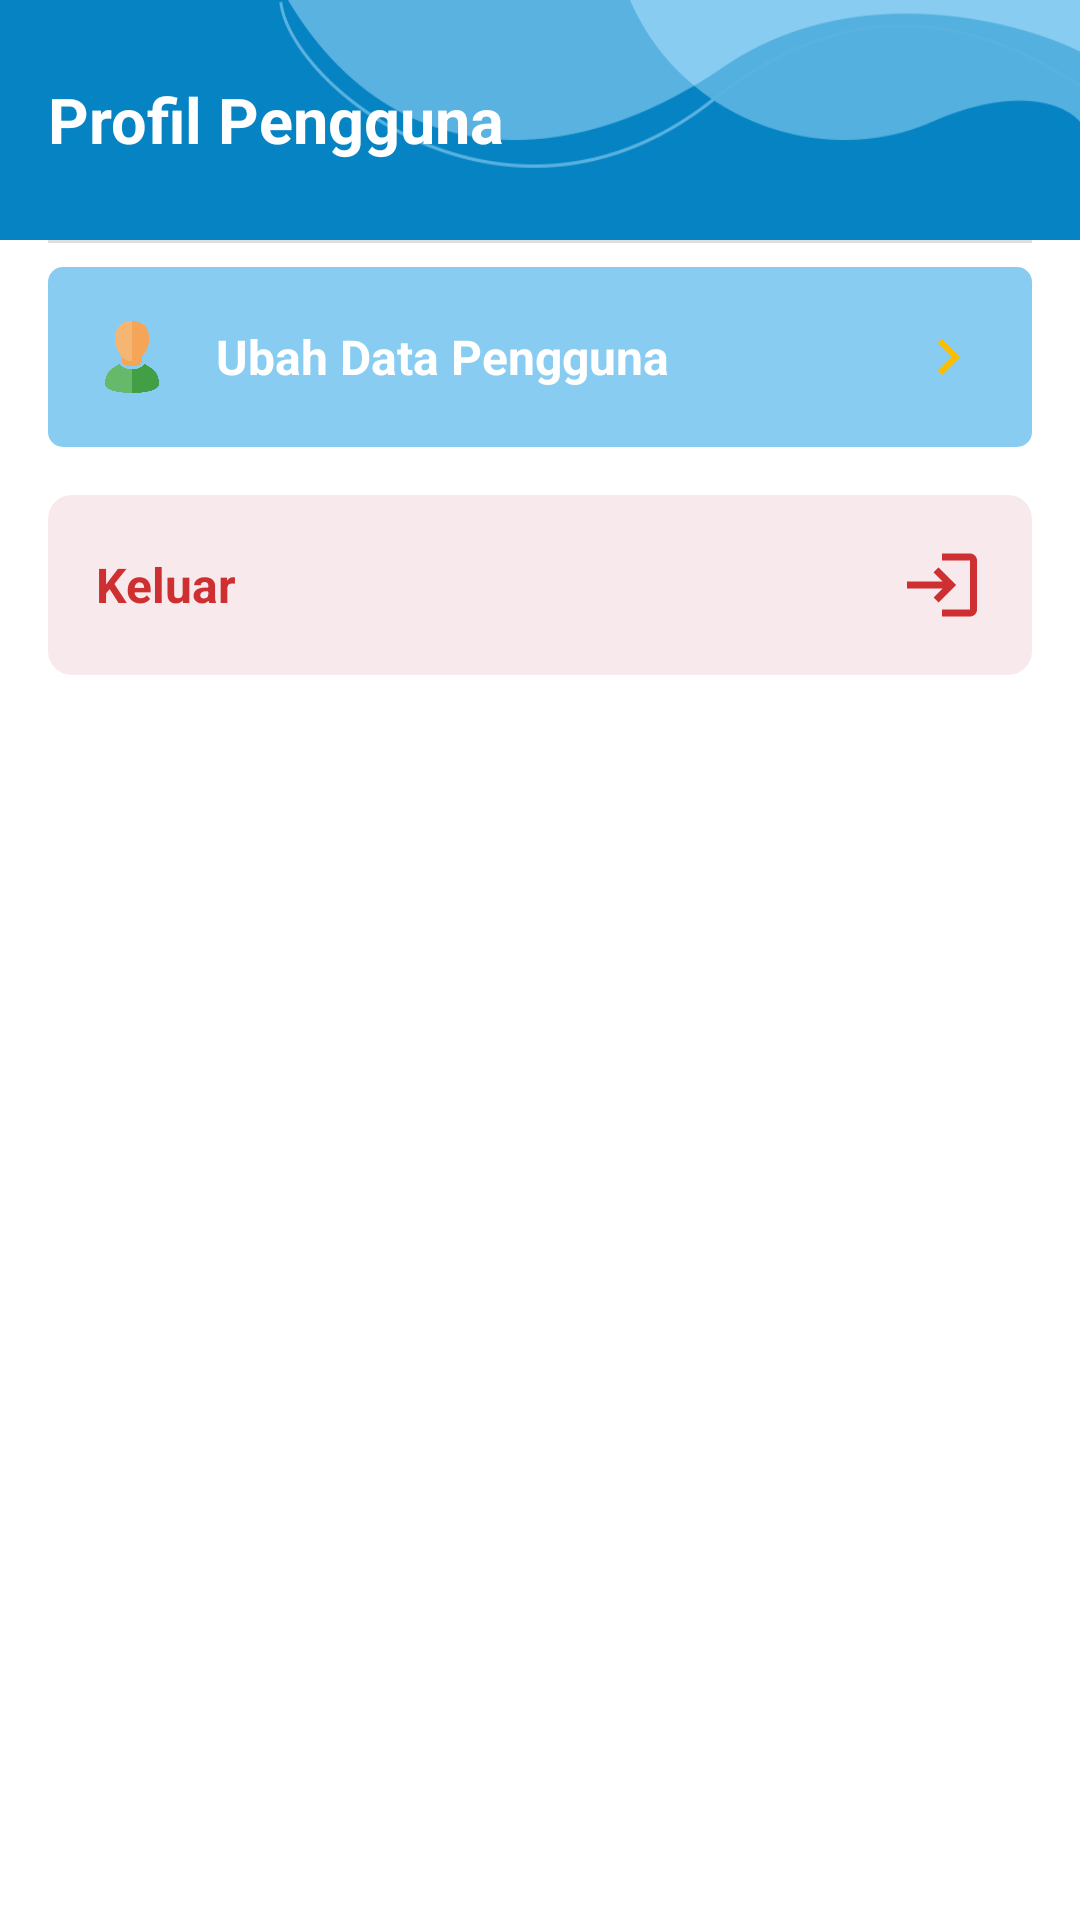

Where to tap for icons on this 1080px x 1920px app screen, as (x=x, y=y):
arrow right: (x=949, y=357)
profil on: (x=132, y=357)
